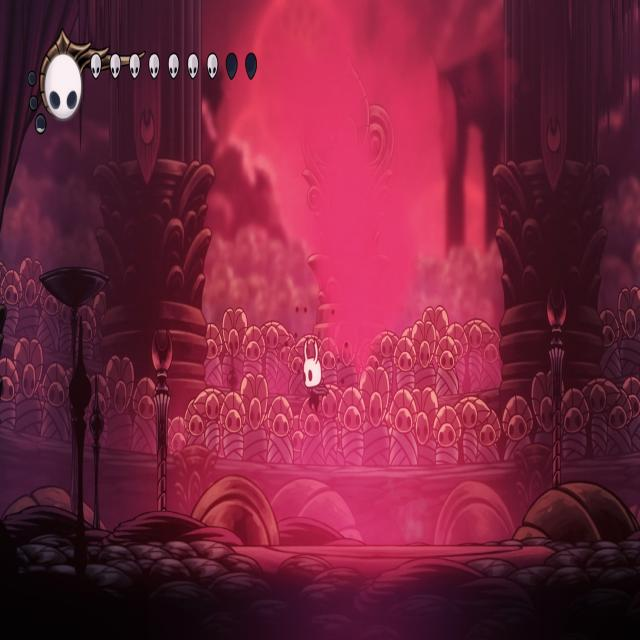Player: (301, 333, 329, 417)
